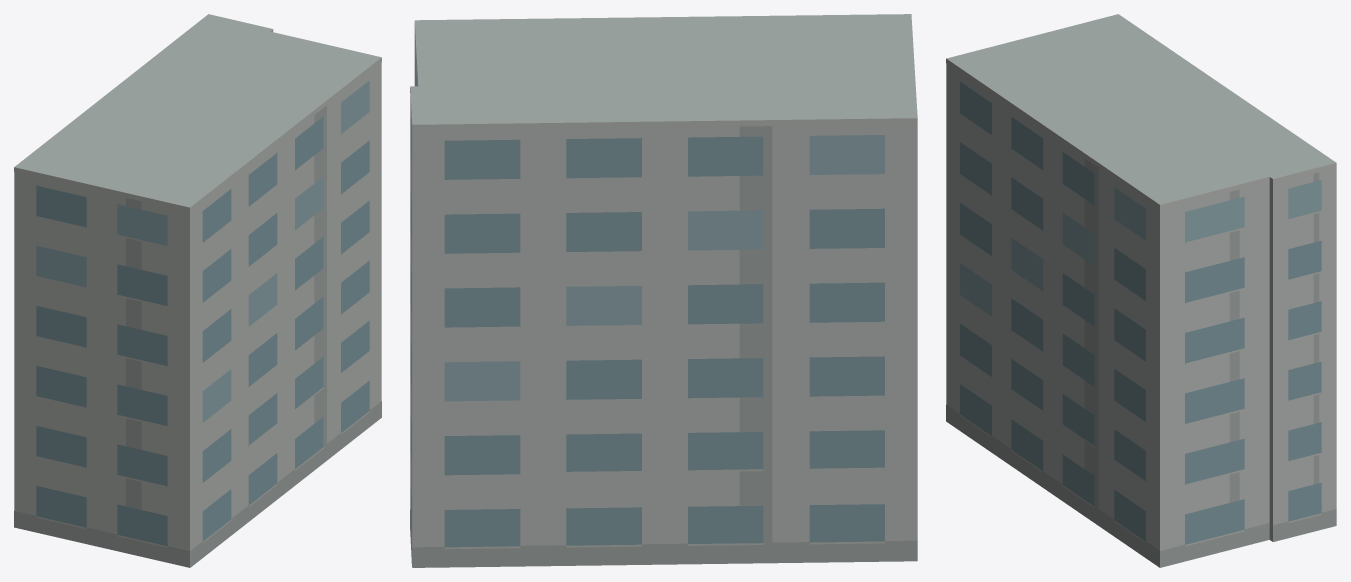
The model's file is survey-upis-32965386.glb.
The picture shows the model from 3 angles, left to right: view 1: azimuth 30°, elevation 25°; view 2: azimuth 150°, elevation 25°; view 3: azimuth 270°, elevation 25°; orthographic projection. The views are drawn at different scales.
Parts seen in each view (by area): view 1: survey-upis-32965386.tmp; view 2: survey-upis-32965386.tmp; view 3: survey-upis-32965386.tmp.
Boxes of the visible parts, bbox=[...] form: survey-upis-32965386.tmp: bbox=[14, 14, 381, 567]; survey-upis-32965386.tmp: bbox=[410, 14, 917, 567]; survey-upis-32965386.tmp: bbox=[946, 14, 1336, 567].
Bounding box in the file's own units: 20.31 × 18 × 17.56.
